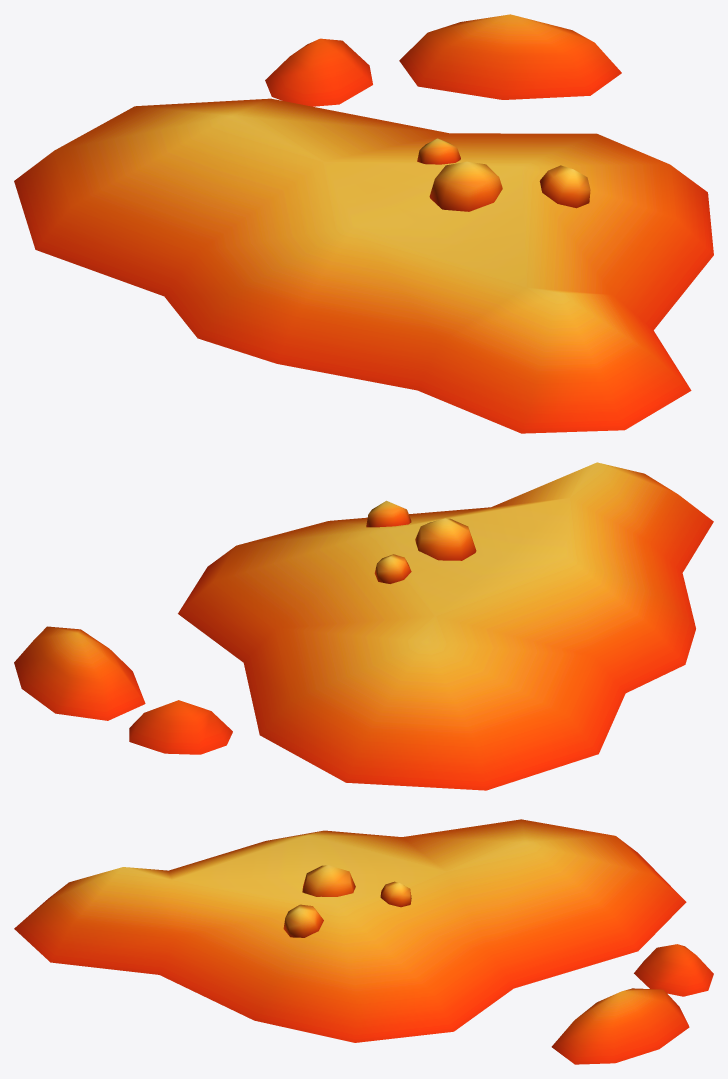
Rendered from m_LavaPuddle02.fbx.
3 views of the same model, one above another, from view 1: azimuth 30°, elevation 25°; view 2: azimuth 150°, elevation 25°; view 3: azimuth 270°, elevation 25° (orthographic). The views are drawn at different scales.
Visible parts, largest first — view 1: m_LavaPuddle02; view 2: m_LavaPuddle02; view 3: m_LavaPuddle02.
Part boxes in pixels (x1=…): m_LavaPuddle02: x1=14, y1=14, x2=713, y2=433; m_LavaPuddle02: x1=14, y1=462, x2=713, y2=790; m_LavaPuddle02: x1=14, y1=819, x2=713, y2=1064.
Bounding box in the file's own units: 320 × 52.35 × 408.
